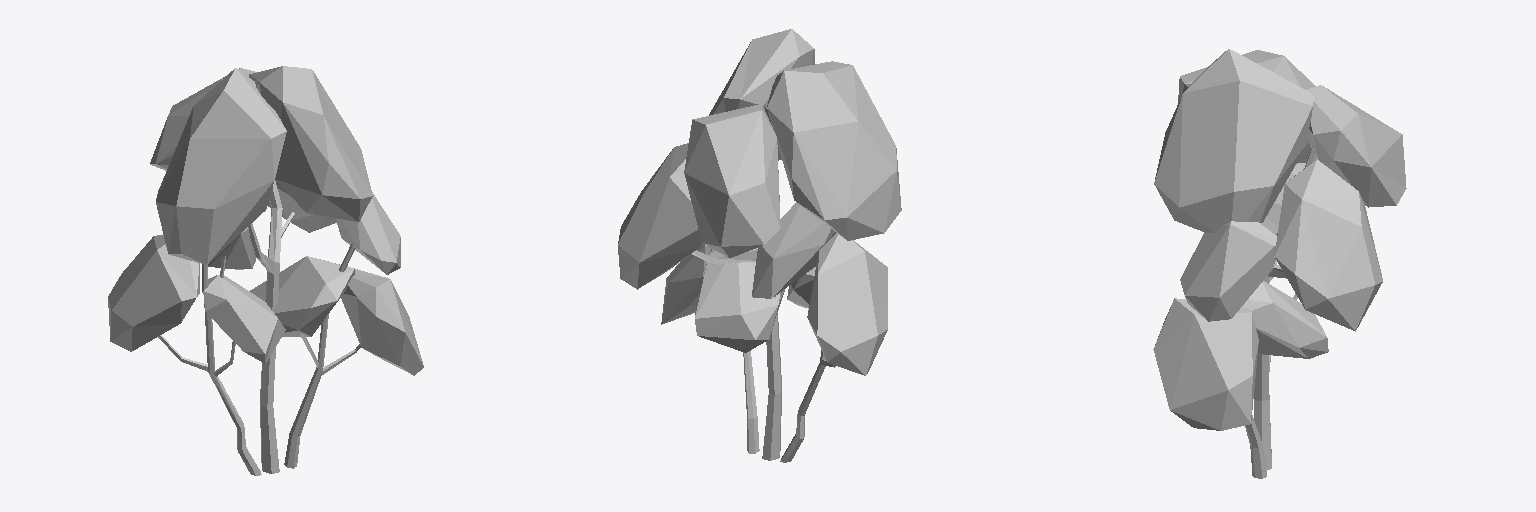
Rendered from tree.obj.
3 views of the same model, side by side, from view 1: azimuth 30°, elevation 25°; view 2: azimuth 150°, elevation 25°; view 3: azimuth 270°, elevation 25° (orthographic).
Parts seen in each view (by area): view 1: Tree_Type5_04_Model.001; view 2: Tree_Type5_04_Model.001; view 3: Tree_Type5_04_Model.001.
Boxes of the visible parts, box(x1,y1,x2,y2) form: Tree_Type5_04_Model.001: box(108, 66, 423, 475); Tree_Type5_04_Model.001: box(618, 29, 901, 462); Tree_Type5_04_Model.001: box(1153, 49, 1406, 478).
Bounding box in the file's own units: 1.34 × 2.1 × 1.16.